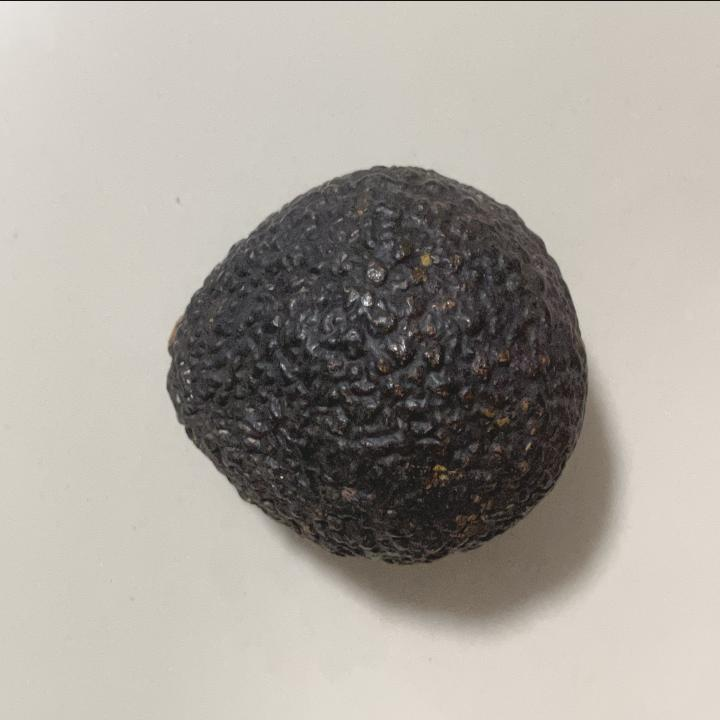Level2: (150, 154, 595, 574)
